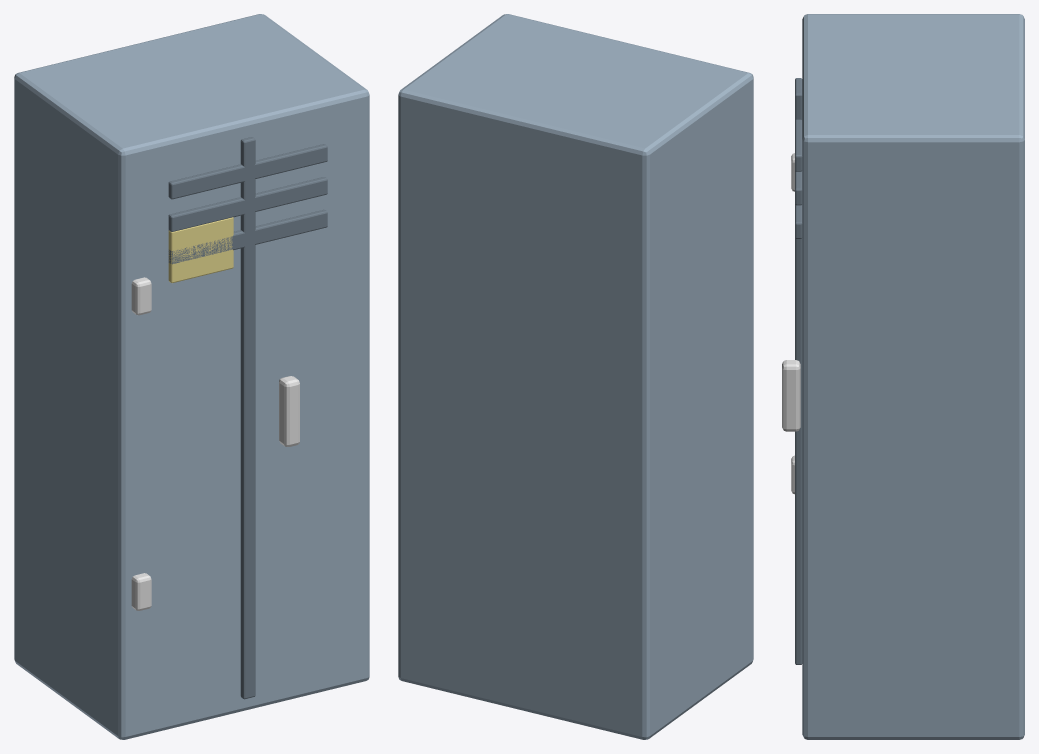
The model's file is шкафчик.glb.
3 views of the same model, side by side, from view 1: azimuth 30°, elevation 25°; view 2: azimuth 150°, elevation 25°; view 3: azimuth 270°, elevation 25° (orthographic). The views are drawn at different scales.
Parts seen in each view (by area): view 1: шкафчик; view 2: шкафчик; view 3: шкафчик.
Part boxes in pixels (x1,y1,x2,y2): шкафчик: (14, 14, 369, 739); шкафчик: (398, 14, 753, 739); шкафчик: (782, 14, 1024, 739).
Bounding box in the file's own units: 0.8 × 1.8 × 0.655.
